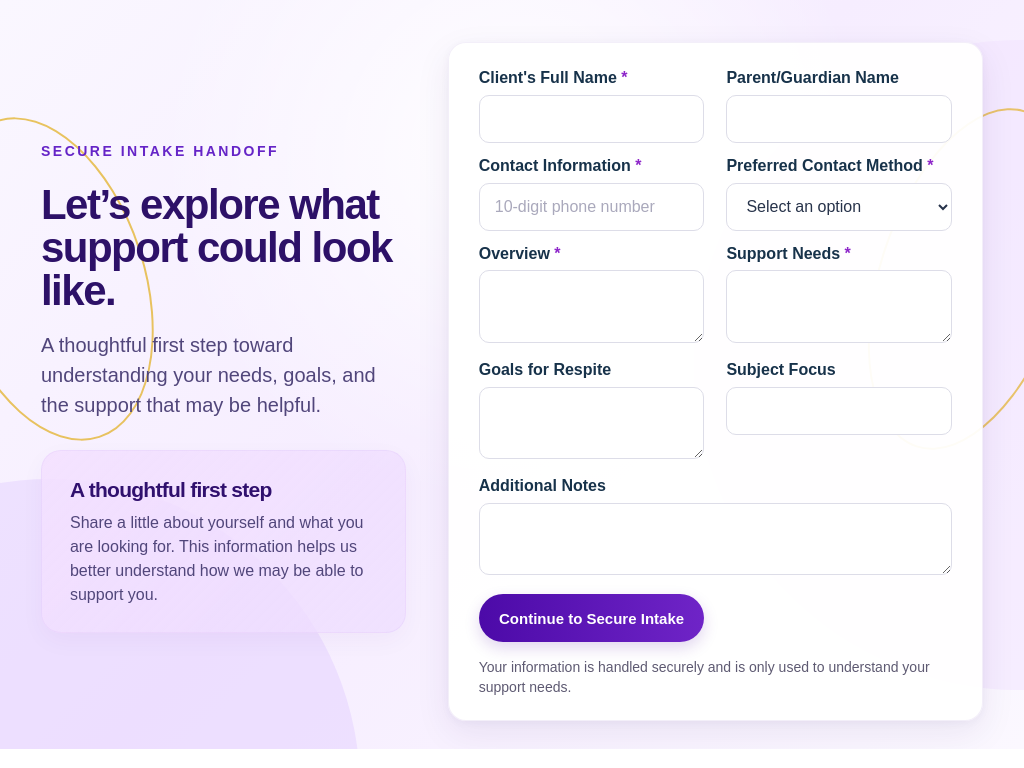
Test: Intake page › asks user to log in when there is no token
Type "Sam Lee" into the field labelled "Client's Full Name *" at (592, 119), box [479,95,704,143]
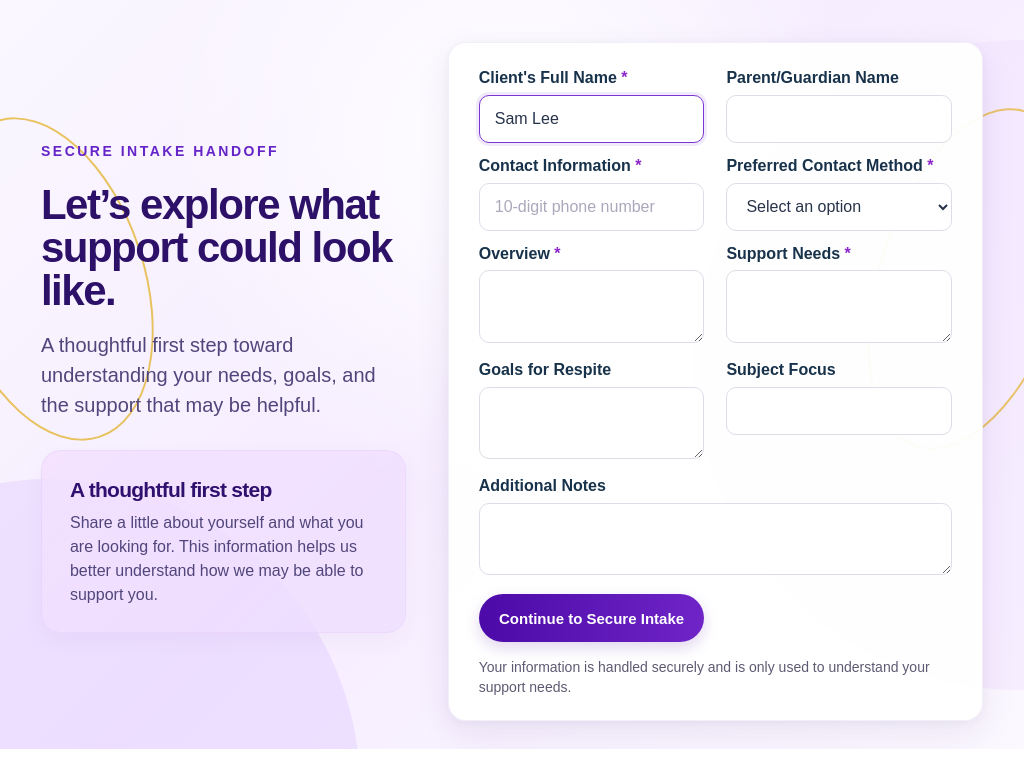
Select "Email" in the dropdown labelled "Preferred Contact Method *" at (839, 207), box [726,183,952,231]
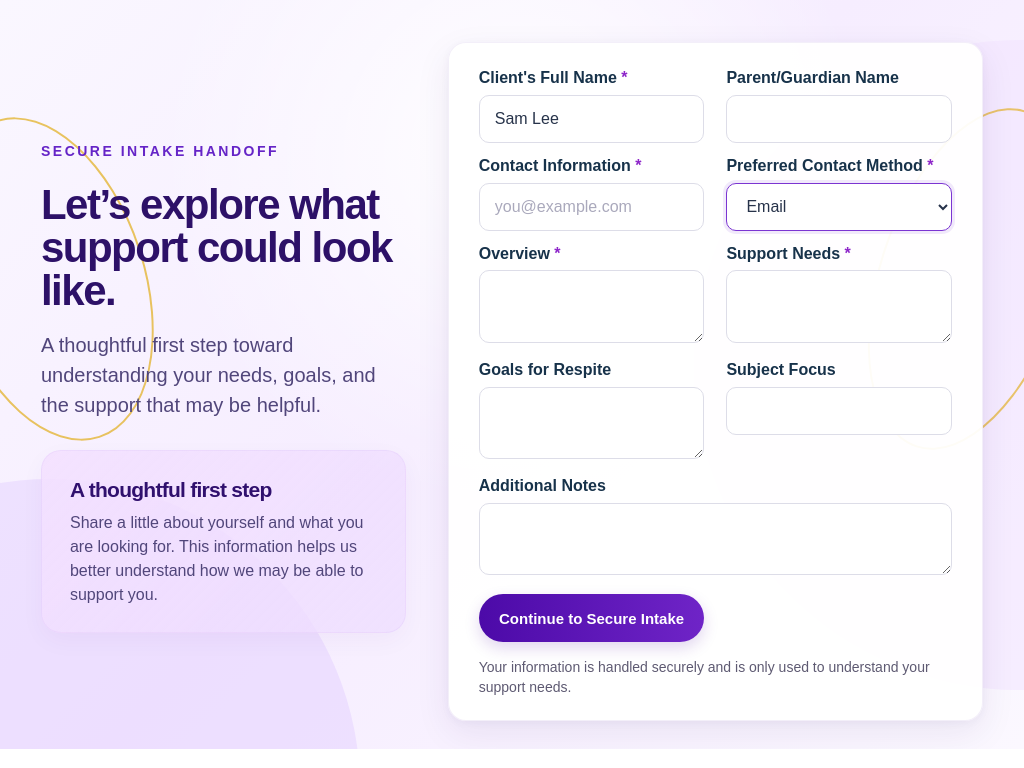
Type "alex@mail.com" into the field labelled "Contact Information *" at (592, 207), box [479,183,704,231]
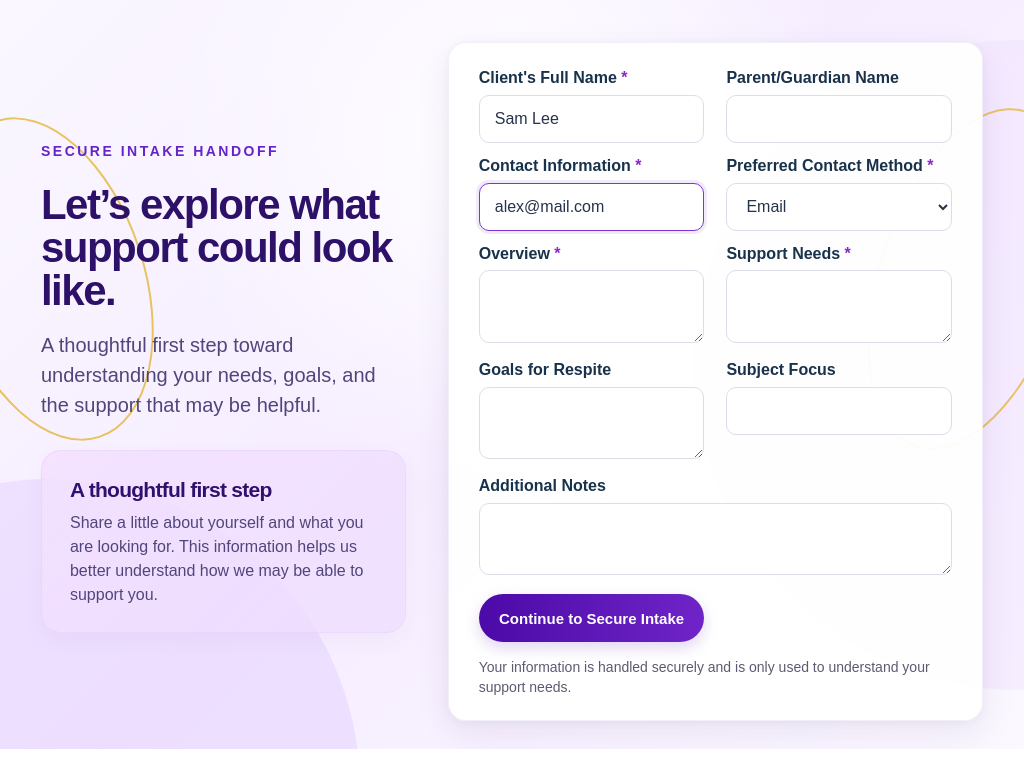
Type "Some overview" into the text box labelled "Overview *" at (592, 307), box [479,270,704,343]
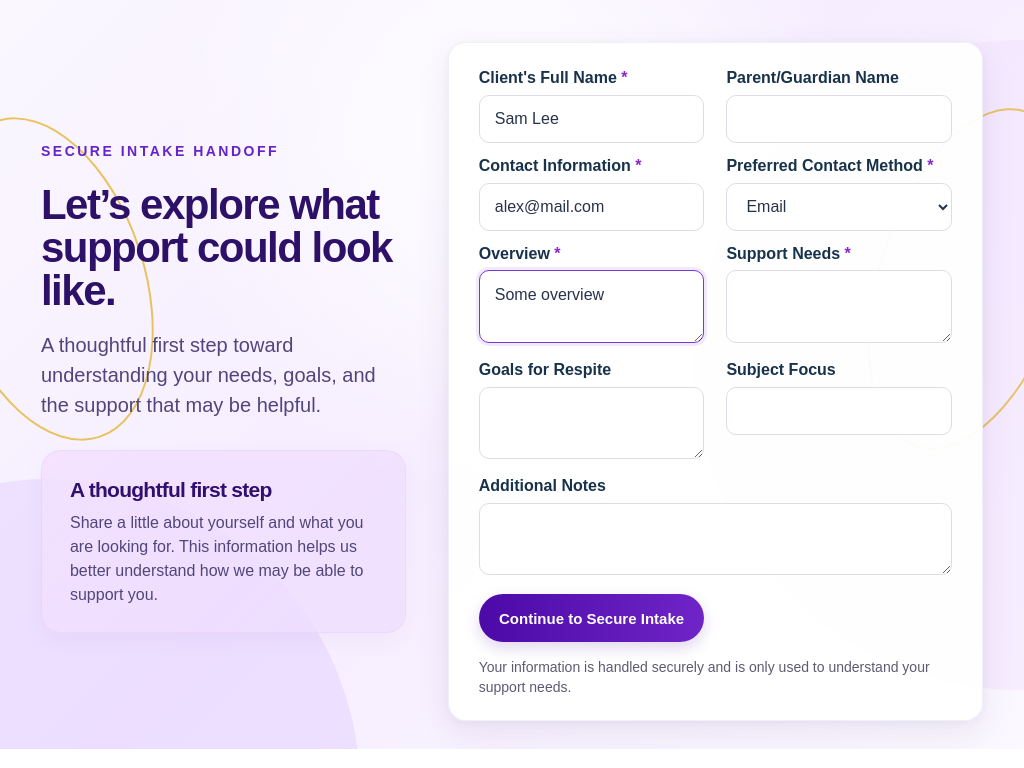
Type "Some needs" into the text box labelled "Support Needs *" at (839, 307), box [726,270,952,343]
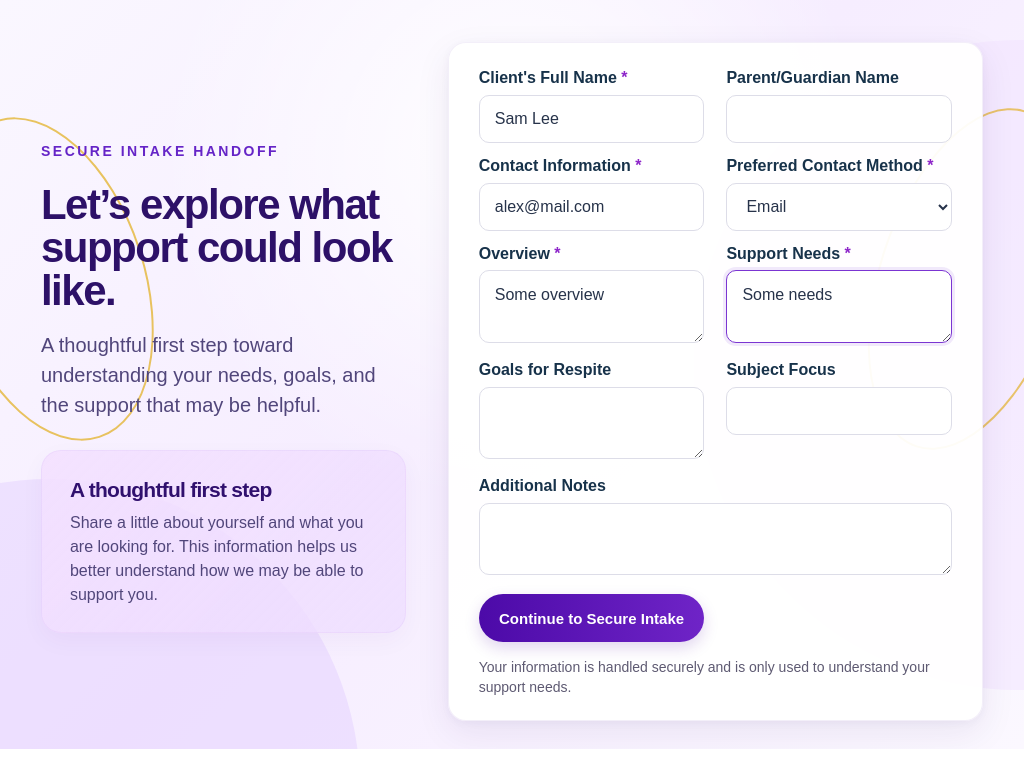
Click the button "Continue to Secure Intake" at (592, 618), box [479,594,704,642]
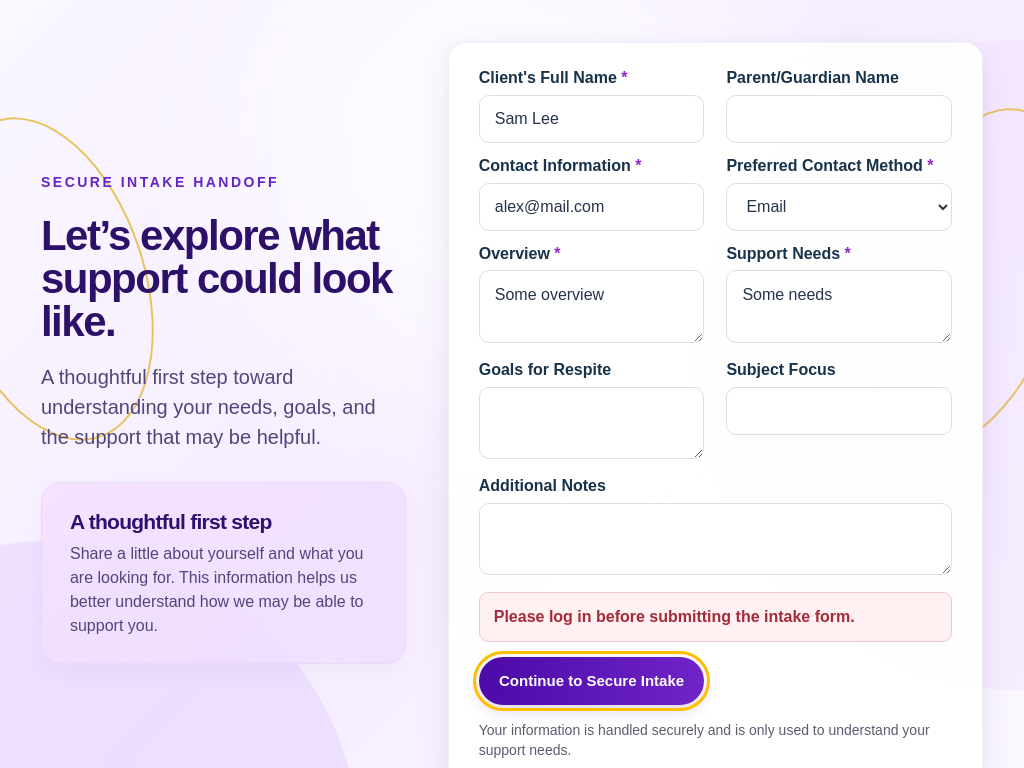
Check: the text "Please log in before submitting the intake form." is shown, box [494,608,855,625]
